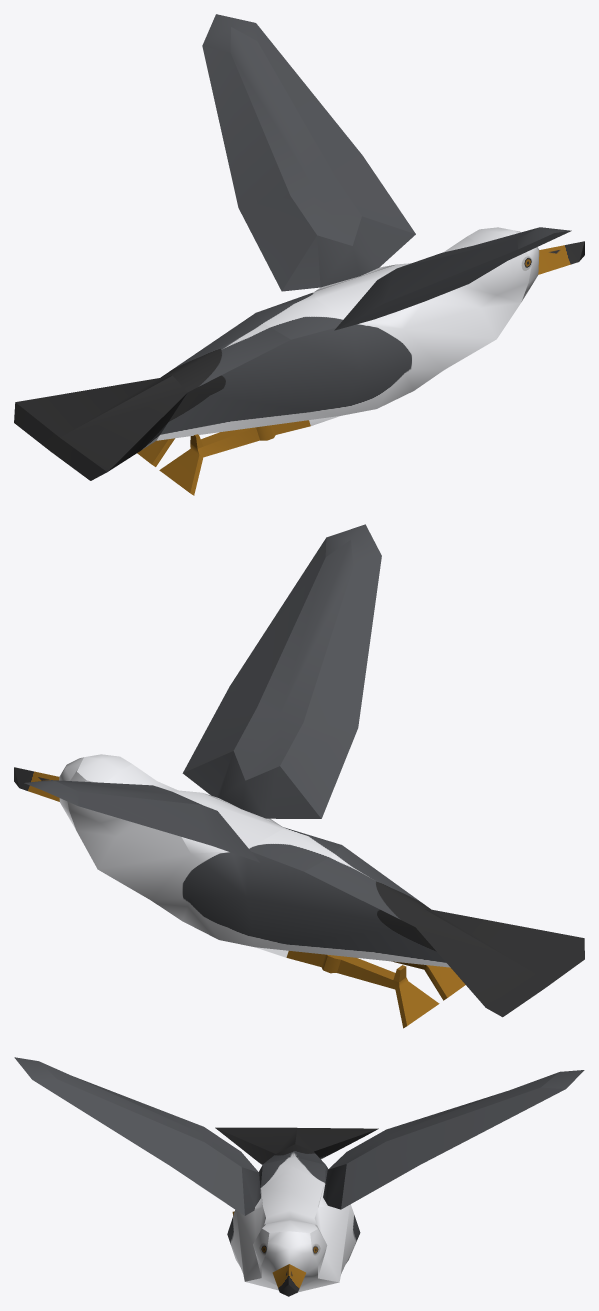
The model's file is Flying gull Texture 1.gltf.
The picture shows the model from 3 angles, top to bottom: view 1: azimuth 30°, elevation 25°; view 2: azimuth 150°, elevation 25°; view 3: azimuth 270°, elevation 25°; orthographic projection. The views are drawn at different scales.
Parts seen in each view (by area): view 1: node-0; view 2: node-0; view 3: node-0.
Part boxes in pixels (x1,y1,x2,y2): node-0: [14, 14, 584, 495]; node-0: [14, 524, 584, 1028]; node-0: [14, 1057, 584, 1296].
Bounding box in the file's own units: 82.16 × 44.24 × 88.47.
Materials: 1 (1 with a texture image).
